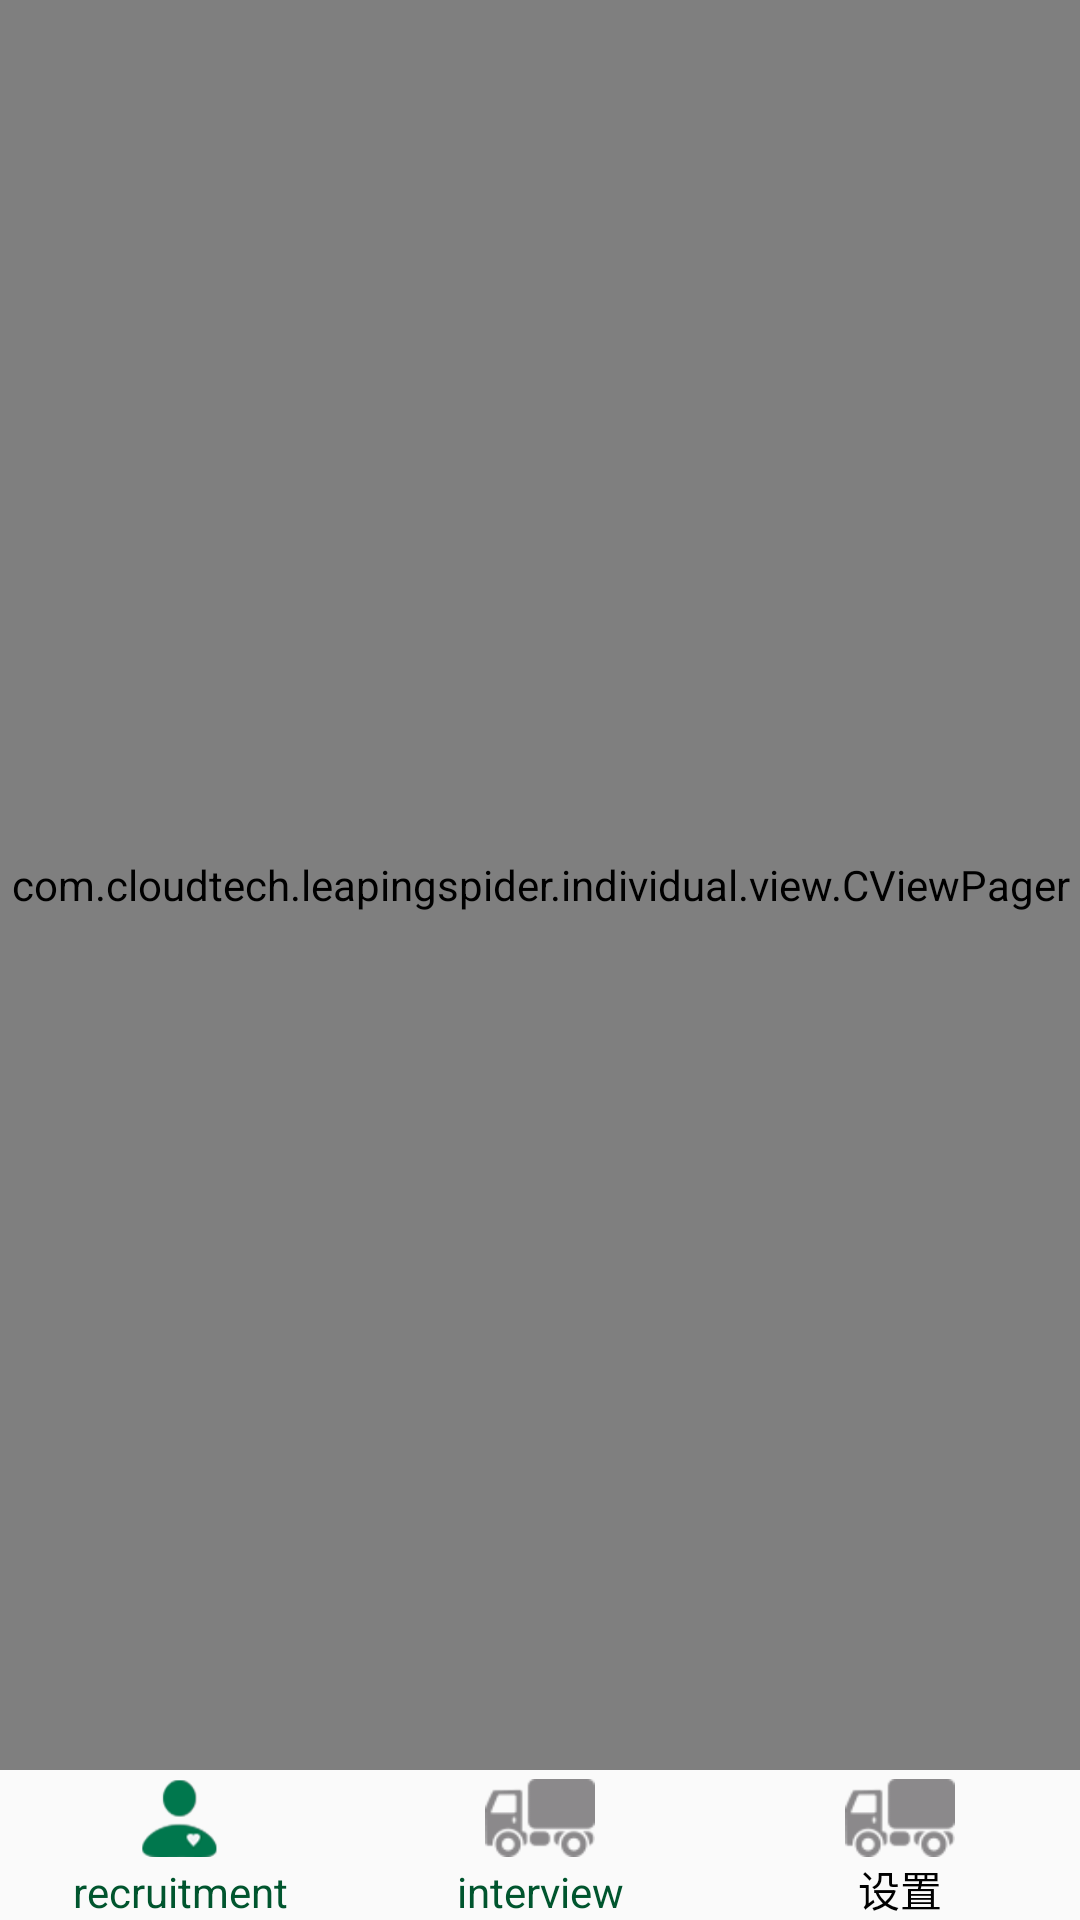

Named icons in this screenshot (1080×1920) and their bounding boxes, (x1, y1, x2, y2):
car: (485, 1779, 595, 1857), (845, 1779, 955, 1857)
